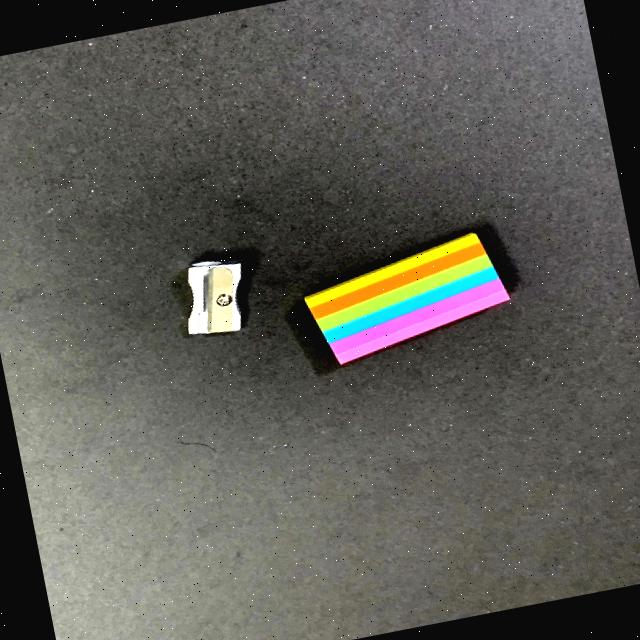Eraser: (285, 210, 536, 386)
Sharpner: (146, 240, 286, 360)
